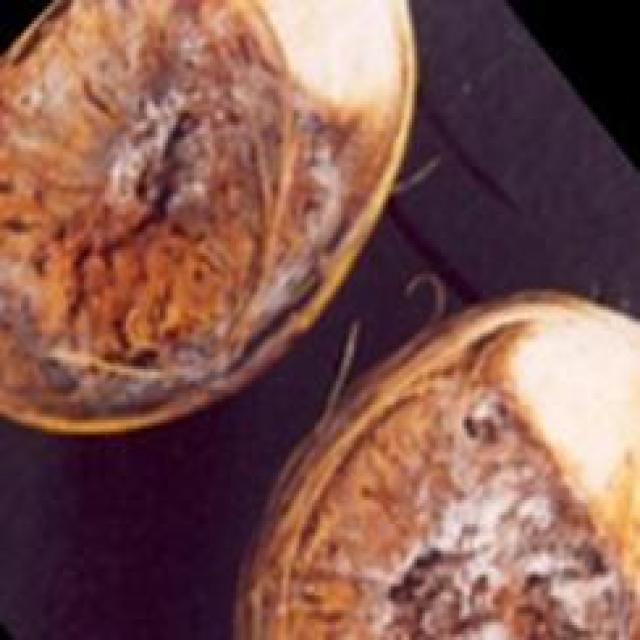damaged: (0, 0, 420, 441), (231, 289, 637, 637)
